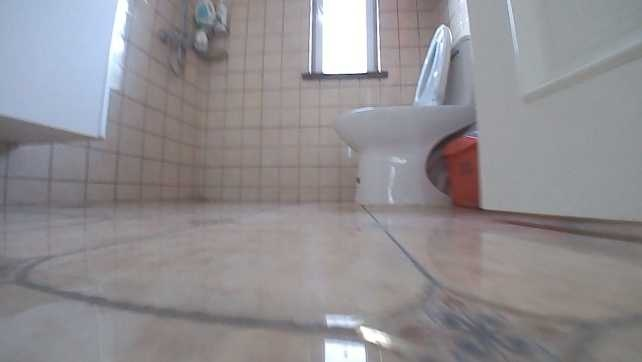toilet: (327, 24, 475, 209)
